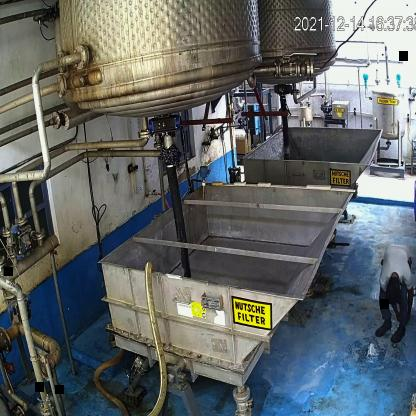shoes: (372, 319, 393, 338), (391, 323, 407, 346)
